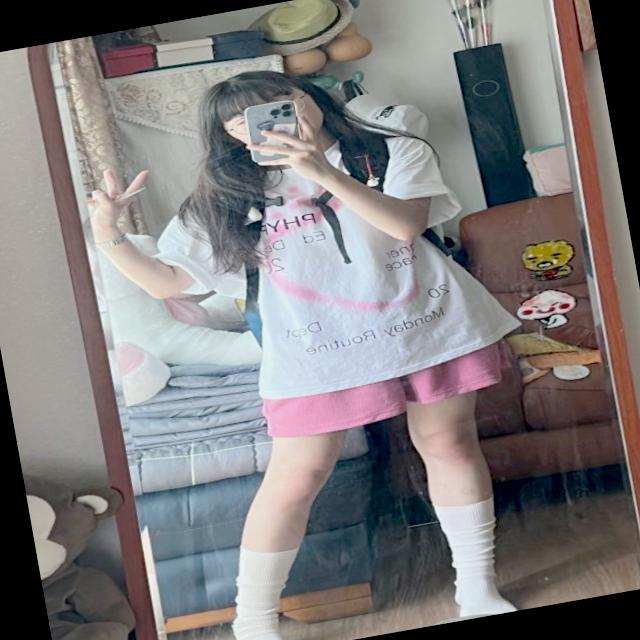shortpants: (263, 339, 516, 448)
shortsleeve: (133, 100, 528, 419)
